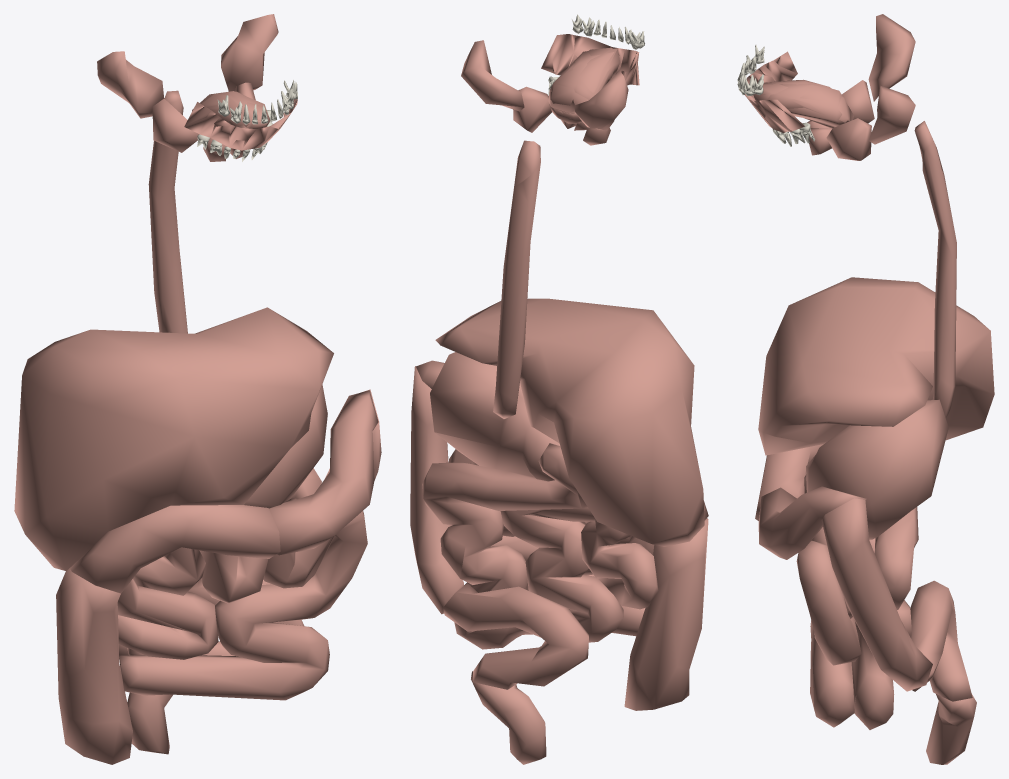
File: pediatric_neonate_male.digestive.LOD3.glb
The picture shows the model from 3 angles, left to right: view 1: azimuth 30°, elevation 25°; view 2: azimuth 150°, elevation 25°; view 3: azimuth 270°, elevation 25°; orthographic projection. The views are drawn at different scales.
Visible parts, largest first — view 1: PEDIATRIC.NEONATE.MALE.DIGESTIVE.LIVER, PEDIATRIC.NEONATE.MALE.DIGESTIVE.SMALL_INTESTINE_WALL, PEDIATRIC.NEONATE.MALE.DIGESTIVE.ASCENDING_COLON_WALL, PEDIATRIC.NEONATE.MALE.DIGESTIVE.TRANSVERSE_COLON_WALL.R, PEDIATRIC.NEONATE.MALE.DIGESTIVE.TRANSVERSE_COLON_WALL.L, PEDIATRIC.NEONATE.MALE.DIGESTIVE.OESOPHAGUS_WALL, PEDIATRIC.NEONATE.MALE.DIGESTIVE.SALIVARY_GLANDS.R, PEDIATRIC.NEONATE.MALE.DIGESTIVE.STOMACH_WALL, PEDIATRIC.NEONATE.MALE.DIGESTIVE.SALIVARY_GLANDS.L, PEDIATRIC.NEONATE.MALE.DIGESTIVE.ORAL_MUCOSA_LIP_AND_CHEEKS, PEDIATRIC.NEONATE.MALE.DIGESTIVE.RECTUM_WALL, PEDIATRIC.NEONATE.MALE.DIGESTIVE.DECIDUOUS_CEMENTUM (+4 smaller); view 2: PEDIATRIC.NEONATE.MALE.DIGESTIVE.LIVER, PEDIATRIC.NEONATE.MALE.DIGESTIVE.SMALL_INTESTINE_WALL, PEDIATRIC.NEONATE.MALE.DIGESTIVE.ASCENDING_COLON_WALL, PEDIATRIC.NEONATE.MALE.DIGESTIVE.SIGMOID_COLON_WALL, PEDIATRIC.NEONATE.MALE.DIGESTIVE.STOMACH_WALL, PEDIATRIC.NEONATE.MALE.DIGESTIVE.OESOPHAGUS_WALL, PEDIATRIC.NEONATE.MALE.DIGESTIVE.DESCENDING_COLON_WALL, PEDIATRIC.NEONATE.MALE.DIGESTIVE.SALIVARY_GLANDS.L, PEDIATRIC.NEONATE.MALE.DIGESTIVE.RECTUM_WALL, PEDIATRIC.NEONATE.MALE.DIGESTIVE.SALIVARY_GLANDS.R, PEDIATRIC.NEONATE.MALE.DIGESTIVE.ORAL_MUCOSA_LIP_AND_CHEEKS, PEDIATRIC.NEONATE.MALE.DIGESTIVE.TONGUE_UPPER_FOOD (+2 smaller); view 3: PEDIATRIC.NEONATE.MALE.DIGESTIVE.LIVER, PEDIATRIC.NEONATE.MALE.DIGESTIVE.SMALL_INTESTINE_WALL, PEDIATRIC.NEONATE.MALE.DIGESTIVE.STOMACH_WALL, PEDIATRIC.NEONATE.MALE.DIGESTIVE.DESCENDING_COLON_WALL, PEDIATRIC.NEONATE.MALE.DIGESTIVE.OESOPHAGUS_WALL, PEDIATRIC.NEONATE.MALE.DIGESTIVE.SIGMOID_COLON_WALL, PEDIATRIC.NEONATE.MALE.DIGESTIVE.TRANSVERSE_COLON_WALL.L, PEDIATRIC.NEONATE.MALE.DIGESTIVE.SALIVARY_GLANDS.L, PEDIATRIC.NEONATE.MALE.DIGESTIVE.SALIVARY_GLANDS.R, PEDIATRIC.NEONATE.MALE.DIGESTIVE.RECTUM_WALL, PEDIATRIC.NEONATE.MALE.DIGESTIVE.TRANSVERSE_COLON_WALL.R, PEDIATRIC.NEONATE.MALE.DIGESTIVE.ORAL_MUCOSA_LIP_AND_CHEEKS (+4 smaller).
Boxes of the visible parts, x1=… form: PEDIATRIC.NEONATE.MALE.DIGESTIVE.LIVER: x1=14, y1=307, x2=333, y2=571; PEDIATRIC.NEONATE.MALE.DIGESTIVE.SMALL_INTESTINE_WALL: x1=117, y1=468, x2=367, y2=700; PEDIATRIC.NEONATE.MALE.DIGESTIVE.ASCENDING_COLON_WALL: x1=56, y1=568, x2=132, y2=764; PEDIATRIC.NEONATE.MALE.DIGESTIVE.TRANSVERSE_COLON_WALL.R: x1=70, y1=505, x2=280, y2=593; PEDIATRIC.NEONATE.MALE.DIGESTIVE.TRANSVERSE_COLON_WALL.L: x1=269, y1=390, x2=378, y2=555; PEDIATRIC.NEONATE.MALE.DIGESTIVE.OESOPHAGUS_WALL: x1=148, y1=90, x2=187, y2=333; PEDIATRIC.NEONATE.MALE.DIGESTIVE.SALIVARY_GLANDS.R: x1=97, y1=51, x2=226, y2=161; PEDIATRIC.NEONATE.MALE.DIGESTIVE.STOMACH_WALL: x1=244, y1=384, x2=327, y2=508; PEDIATRIC.NEONATE.MALE.DIGESTIVE.SALIVARY_GLANDS.L: x1=221, y1=14, x2=278, y2=158; PEDIATRIC.NEONATE.MALE.DIGESTIVE.ORAL_MUCOSA_LIP_AND_CHEEKS: x1=184, y1=99, x2=297, y2=150; PEDIATRIC.NEONATE.MALE.DIGESTIVE.RECTUM_WALL: x1=127, y1=692, x2=172, y2=754; PEDIATRIC.NEONATE.MALE.DIGESTIVE.DECIDUOUS_CEMENTUM: x1=197, y1=80, x2=297, y2=161; PEDIATRIC.NEONATE.MALE.DIGESTIVE.LIVER: x1=435, y1=298, x2=704, y2=546; PEDIATRIC.NEONATE.MALE.DIGESTIVE.SMALL_INTESTINE_WALL: x1=422, y1=443, x2=658, y2=649; PEDIATRIC.NEONATE.MALE.DIGESTIVE.ASCENDING_COLON_WALL: x1=624, y1=518, x2=708, y2=710; PEDIATRIC.NEONATE.MALE.DIGESTIVE.SIGMOID_COLON_WALL: x1=443, y1=583, x2=588, y2=689; PEDIATRIC.NEONATE.MALE.DIGESTIVE.STOMACH_WALL: x1=430, y1=352, x2=560, y2=481; PEDIATRIC.NEONATE.MALE.DIGESTIVE.OESOPHAGUS_WALL: x1=493, y1=140, x2=540, y2=418; PEDIATRIC.NEONATE.MALE.DIGESTIVE.DESCENDING_COLON_WALL: x1=410, y1=366, x2=464, y2=614; PEDIATRIC.NEONATE.MALE.DIGESTIVE.SALIVARY_GLANDS.L: x1=461, y1=40, x2=576, y2=132; PEDIATRIC.NEONATE.MALE.DIGESTIVE.RECTUM_WALL: x1=471, y1=671, x2=546, y2=764; PEDIATRIC.NEONATE.MALE.DIGESTIVE.SALIVARY_GLANDS.R: x1=574, y1=70, x2=628, y2=145; PEDIATRIC.NEONATE.MALE.DIGESTIVE.ORAL_MUCOSA_LIP_AND_CHEEKS: x1=541, y1=34, x2=639, y2=85; PEDIATRIC.NEONATE.MALE.DIGESTIVE.TONGUE_UPPER_FOOD: x1=550, y1=47, x2=615, y2=113; PEDIATRIC.NEONATE.MALE.DIGESTIVE.LIVER: x1=758, y1=277, x2=994, y2=455; PEDIATRIC.NEONATE.MALE.DIGESTIVE.SMALL_INTESTINE_WALL: x1=796, y1=474, x2=918, y2=729; PEDIATRIC.NEONATE.MALE.DIGESTIVE.STOMACH_WALL: x1=806, y1=399, x2=948, y2=539; PEDIATRIC.NEONATE.MALE.DIGESTIVE.DESCENDING_COLON_WALL: x1=821, y1=498, x2=932, y2=691; PEDIATRIC.NEONATE.MALE.DIGESTIVE.OESOPHAGUS_WALL: x1=914, y1=121, x2=956, y2=417; PEDIATRIC.NEONATE.MALE.DIGESTIVE.SIGMOID_COLON_WALL: x1=910, y1=580, x2=972, y2=701; PEDIATRIC.NEONATE.MALE.DIGESTIVE.TRANSVERSE_COLON_WALL.L: x1=758, y1=486, x2=866, y2=559; PEDIATRIC.NEONATE.MALE.DIGESTIVE.SALIVARY_GLANDS.L: x1=809, y1=85, x2=915, y2=160; PEDIATRIC.NEONATE.MALE.DIGESTIVE.SALIVARY_GLANDS.R: x1=807, y1=14, x2=915, y2=128; PEDIATRIC.NEONATE.MALE.DIGESTIVE.RECTUM_WALL: x1=926, y1=694, x2=976, y2=764; PEDIATRIC.NEONATE.MALE.DIGESTIVE.TRANSVERSE_COLON_WALL.R: x1=755, y1=444, x2=823, y2=520; PEDIATRIC.NEONATE.MALE.DIGESTIVE.ORAL_MUCOSA_LIP_AND_CHEEKS: x1=745, y1=51, x2=804, y2=132.
Bounding box in the file's own units: 0.1167 × 0.254 × 0.0827.
